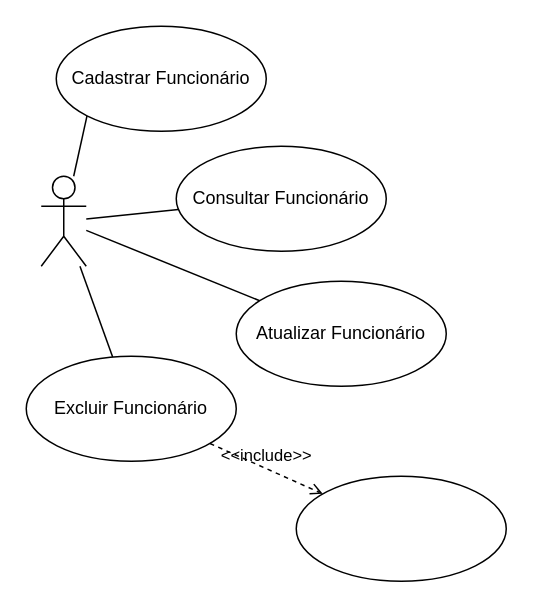
Some shapes in this 533 by 608 pixel diagram are drawn without their labels. Each missing label, with the box of its shape:
Solicitar Confirmação de Exclusão: (295, 475, 506, 581)
Usuário: (40, 175, 86, 266)
